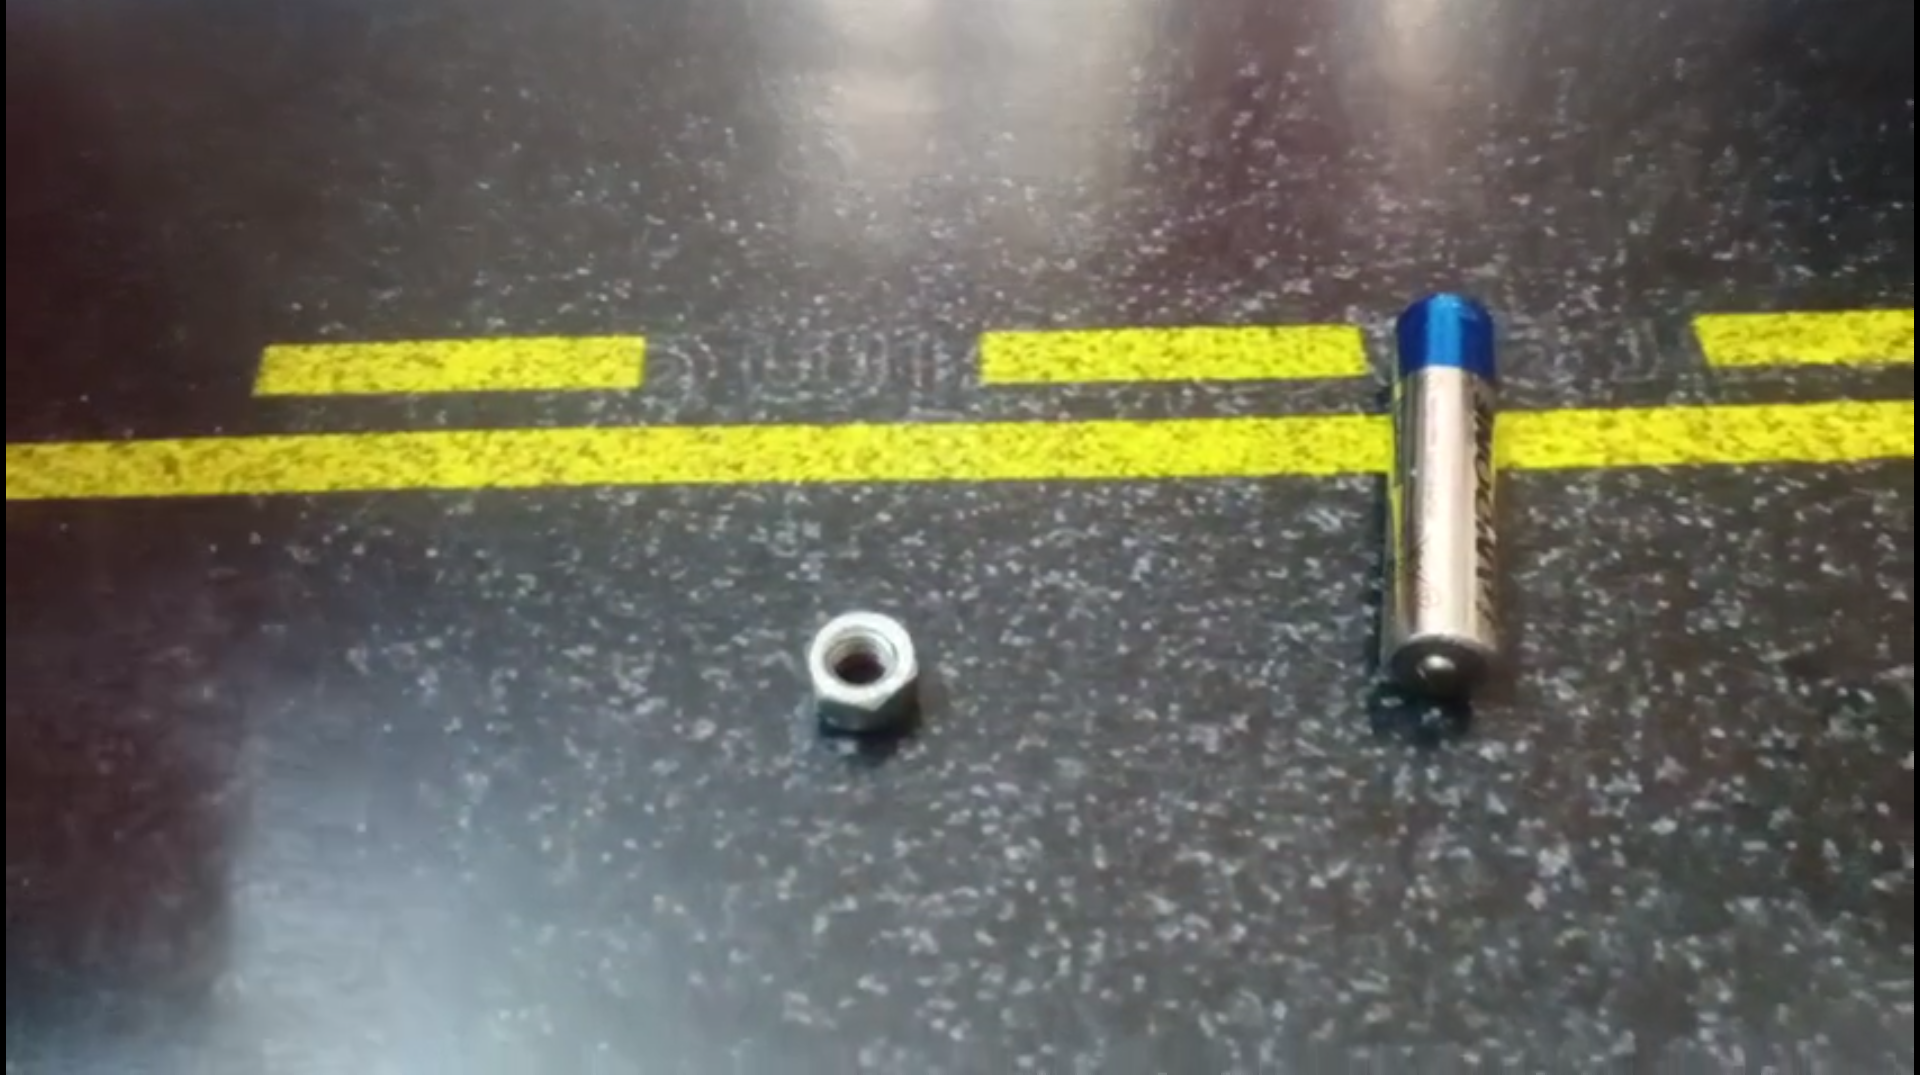metal: (1378, 288, 1513, 714), (803, 601, 923, 741)
